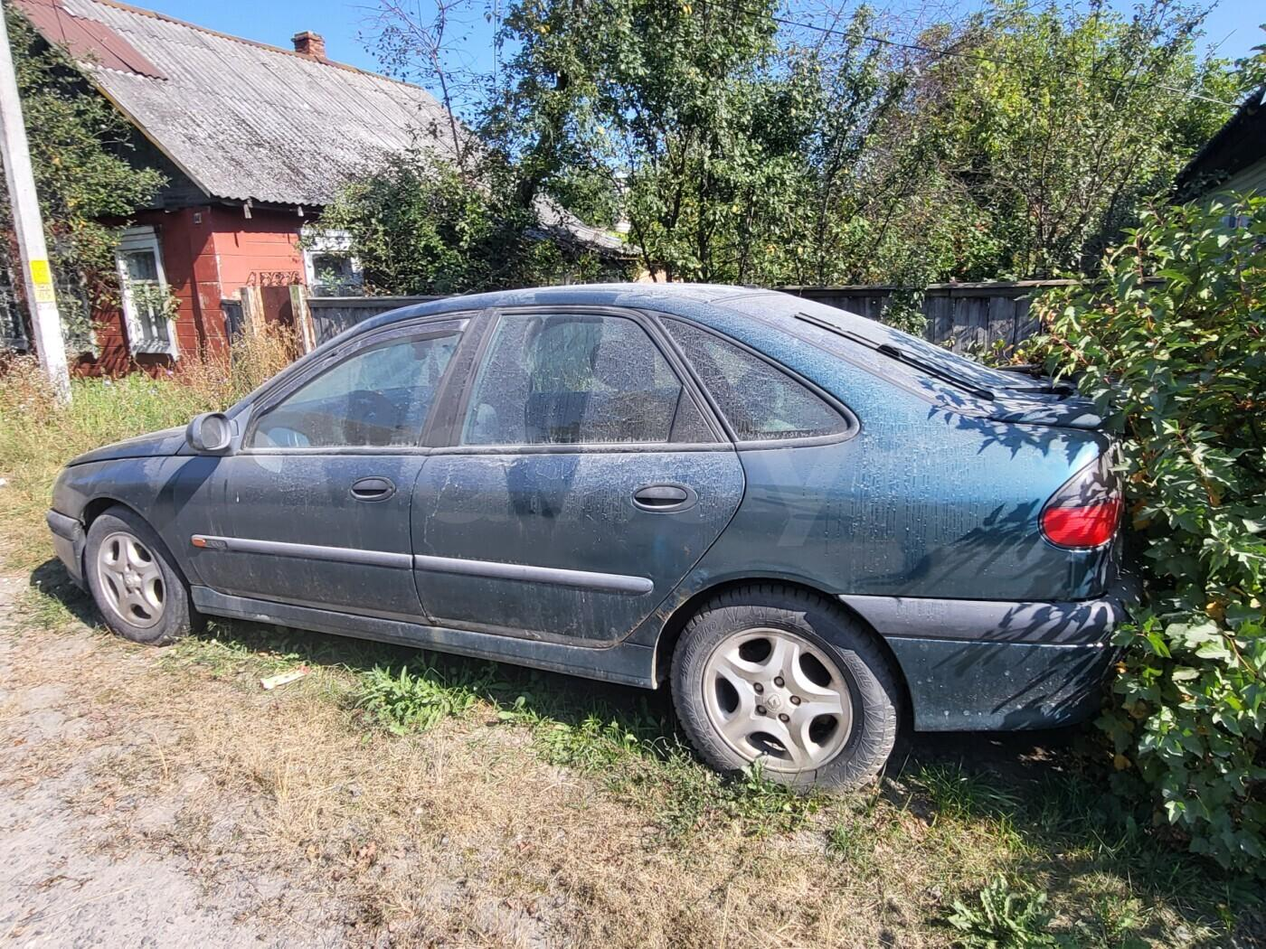Lahuna_1993-1999: (44, 283, 1126, 786)
